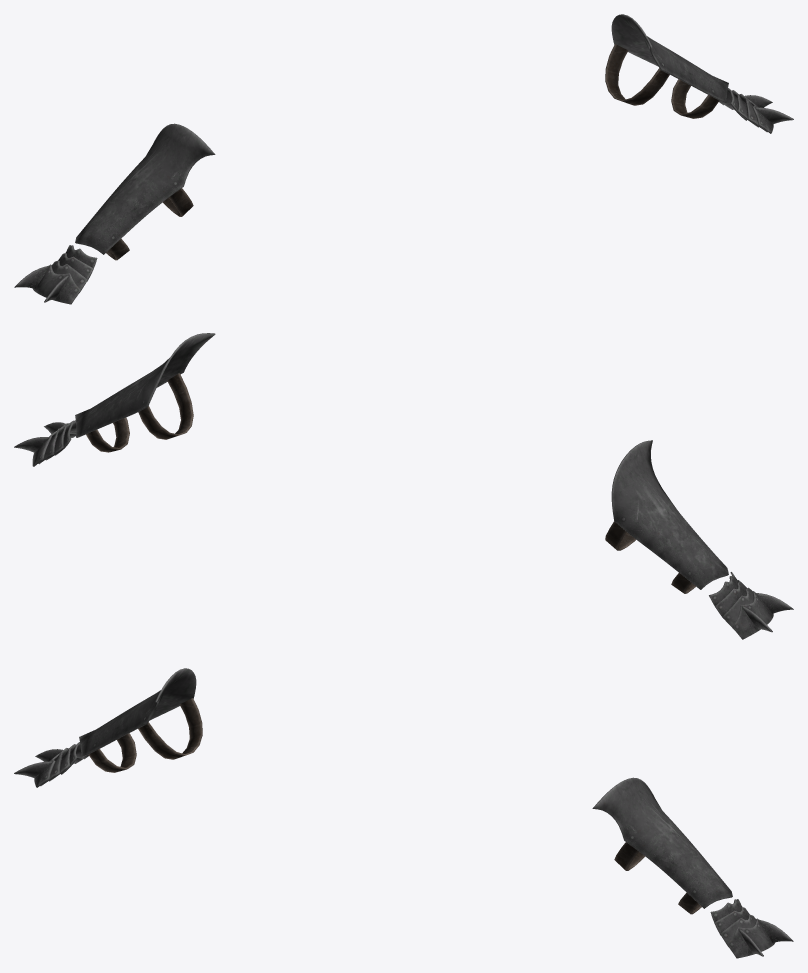
Rendered from sk_uruk_hai_bracer_elite_a1.fbx.
3 renders of one model, top to bottom at view 1: azimuth 30°, elevation 25°; view 2: azimuth 150°, elevation 25°; view 3: azimuth 330°, elevation 25°, orthographic.
Visible parts, largest first — view 1: sk_uruk_hai_bracer_elite_a1.0, sk_uruk_hai_bracer_elite_a1.1; view 2: sk_uruk_hai_bracer_elite_a1.0, sk_uruk_hai_bracer_elite_a1.1; view 3: sk_uruk_hai_bracer_elite_a1.0, sk_uruk_hai_bracer_elite_a1.1.
Boxes of the visible parts, x1,y1,x2,y2 form: sk_uruk_hai_bracer_elite_a1.0: [14, 14, 793, 304]; sk_uruk_hai_bracer_elite_a1.1: [106, 44, 719, 260]; sk_uruk_hai_bracer_elite_a1.0: [14, 333, 793, 639]; sk_uruk_hai_bracer_elite_a1.1: [86, 373, 695, 593]; sk_uruk_hai_bracer_elite_a1.0: [14, 668, 793, 958]; sk_uruk_hai_bracer_elite_a1.1: [88, 698, 701, 914].
Bounding box in the file's own units: 1.6 × 0.1954 × 0.29.
Materials: 2 (2 with a texture image).
